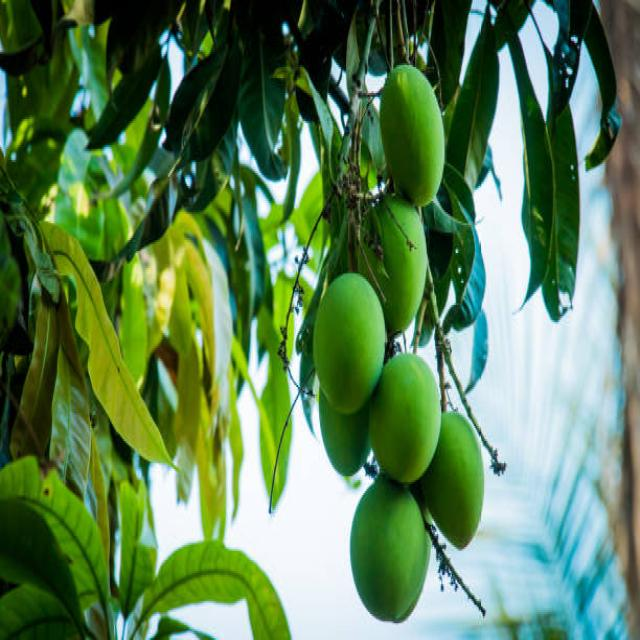mango: (350, 474, 430, 622), (312, 274, 385, 415), (359, 196, 428, 332), (369, 354, 441, 484), (420, 411, 484, 548), (381, 64, 442, 206), (320, 391, 371, 475)
